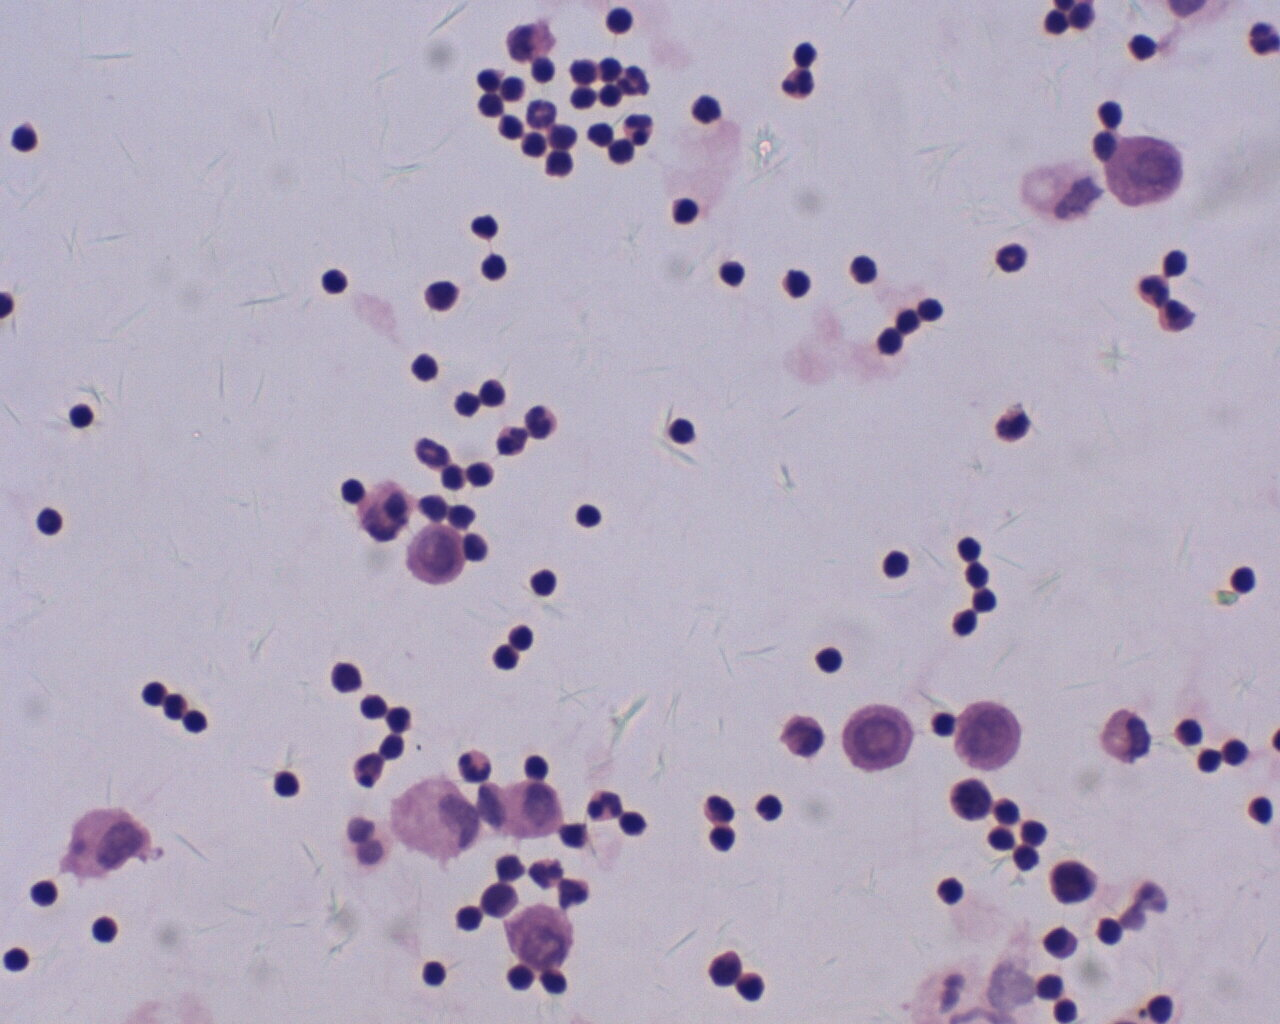ab: (63, 805, 163, 887), (1103, 129, 1184, 211), (501, 897, 581, 976), (954, 698, 1024, 773), (843, 703, 913, 775), (401, 523, 467, 587)
lymph: (315, 258, 354, 301), (87, 910, 127, 951), (597, 1, 638, 39), (1090, 911, 1128, 950), (878, 544, 917, 582), (664, 193, 707, 227), (1170, 714, 1211, 749), (64, 398, 101, 436), (846, 248, 883, 285), (270, 769, 309, 804), (26, 877, 64, 912), (932, 870, 964, 910), (408, 348, 439, 389), (479, 251, 513, 287), (416, 954, 447, 994), (753, 791, 786, 829), (529, 567, 565, 600), (665, 414, 696, 450), (36, 506, 69, 538), (571, 501, 604, 532), (716, 258, 750, 288), (814, 642, 845, 674), (1230, 563, 1258, 598)
neutro: (453, 743, 495, 789), (611, 61, 654, 101), (586, 781, 624, 824), (993, 238, 1033, 276), (523, 401, 560, 442), (781, 66, 816, 103), (620, 114, 658, 145)
